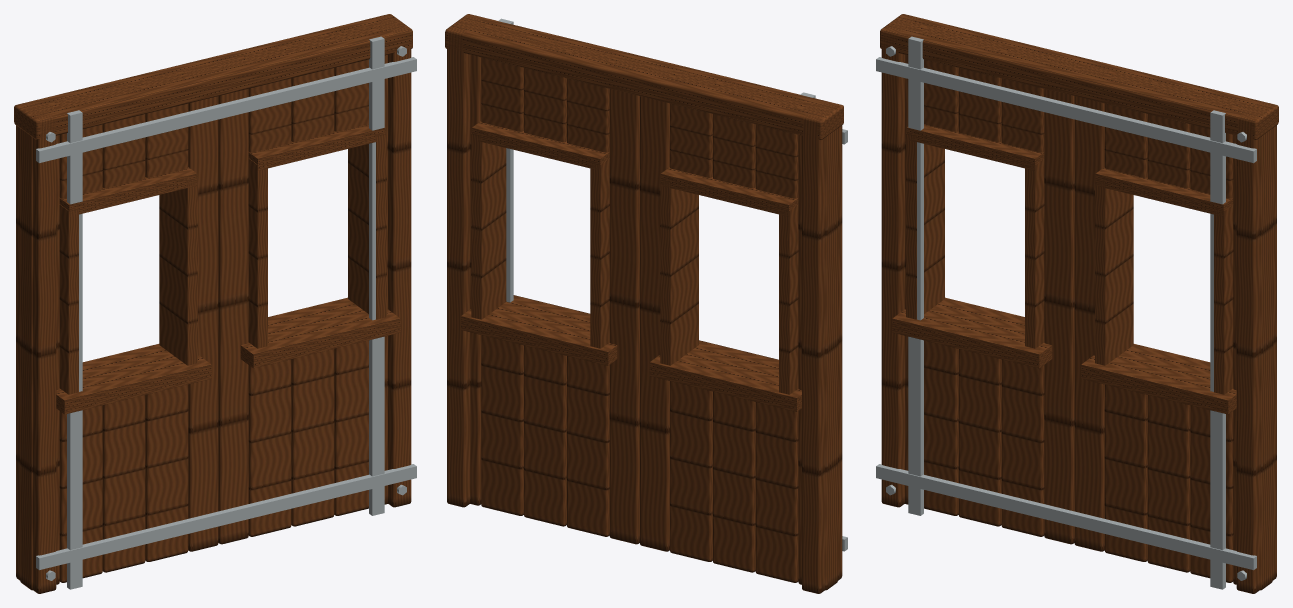
File: modular-survival-base-builder-wall-double-window-reinf-12711f18__24289.glb
The picture shows the model from 3 angles, left to right: view 1: azimuth 30°, elevation 25°; view 2: azimuth 150°, elevation 25°; view 3: azimuth 330°, elevation 25°; orthographic projection.
Visible parts, largest first — view 1: wall-double-window-reinforced; view 2: wall-double-window-reinforced; view 3: wall-double-window-reinforced.
Boxes of the visible parts, x1,y1,x2,y2 form: wall-double-window-reinforced: (14, 14, 416, 593); wall-double-window-reinforced: (445, 14, 847, 593); wall-double-window-reinforced: (876, 14, 1278, 593).
Size of the model in its own units: 2 by 2.4 by 0.3199.
Materials: 2 (1 with a texture image).
